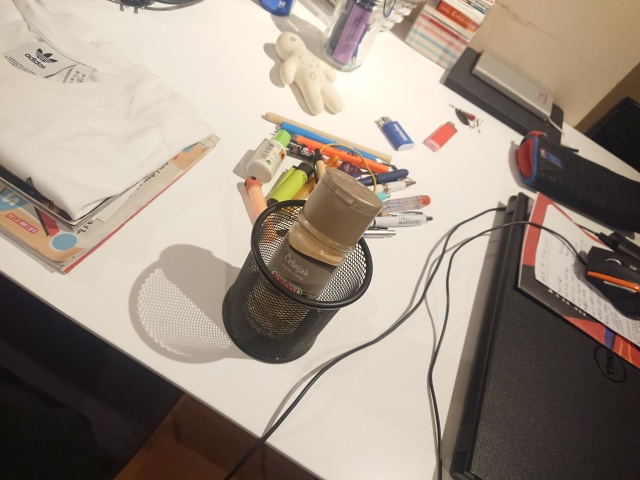Kotanyi Garlic Granules 70g: (241, 164, 384, 341)
